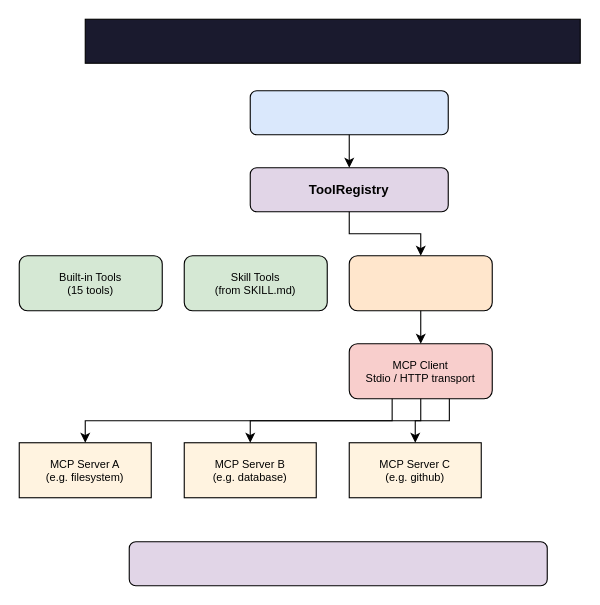
The diagram is 600 pixels wide and 605 high, and some of its shapes have lost their labels. The centre of each missing label's shape, as x and y in pixels:
"AgentRunner" belongs at [348,112].
"MCP Integration — 给 Agent 装上外部工具" belongs at [332,40].
"MCP Tools (external servers)" belongs at [420,283].
"Tool Discovery Protocol tools/list → tool definitions" belongs at [337,563].
